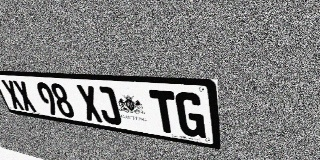8: (49, 83, 76, 118)
9: (34, 82, 61, 116)
G: (175, 91, 206, 139)
J: (94, 86, 123, 126)
T: (149, 90, 179, 135)
X: (75, 85, 104, 123), (12, 80, 38, 112), (0, 79, 25, 110)
